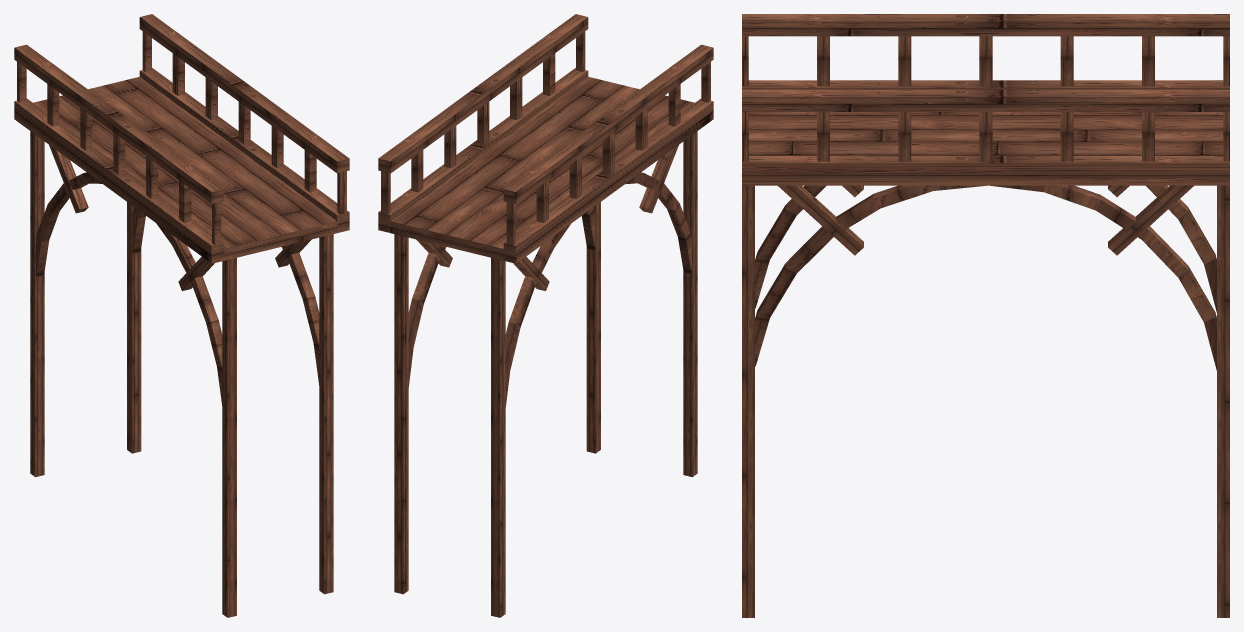
The model's file is Pont.fbx.
3 views of the same model, side by side, from view 1: azimuth 30°, elevation 25°; view 2: azimuth 150°, elevation 25°; view 3: azimuth 270°, elevation 25° (orthographic). The views are drawn at different scales.
Visible parts, largest first — view 1: Fence, Pillars, Floor, Arches, Links 1, Links 2; view 2: Fence, Pillars, Floor, Arches, Links 2, Links 1; view 3: Fence, Floor, Pillars, Arches, Links 2, Links 1.
Boxes of the visible parts, x1,y1,x2,y2 form: Fence: (14, 14, 349, 263); Pillars: (30, 131, 333, 617); Floor: (33, 77, 337, 260); Arches: (36, 172, 319, 405); Links 1: (178, 239, 311, 290); Links 2: (49, 145, 88, 213); Fence: (378, 14, 713, 263); Pillars: (394, 131, 697, 617); Floor: (390, 77, 694, 260); Arches: (408, 172, 691, 406); Links 2: (416, 239, 549, 290); Links 1: (639, 145, 678, 213); Fence: (742, 14, 1229, 185); Floor: (748, 112, 1223, 155); Pillars: (742, 185, 1229, 617); Arches: (755, 185, 1216, 370); Links 2: (1108, 185, 1193, 255); Links 1: (778, 185, 863, 255).
Size of the model in its own units: 242 by 720 by 600.
